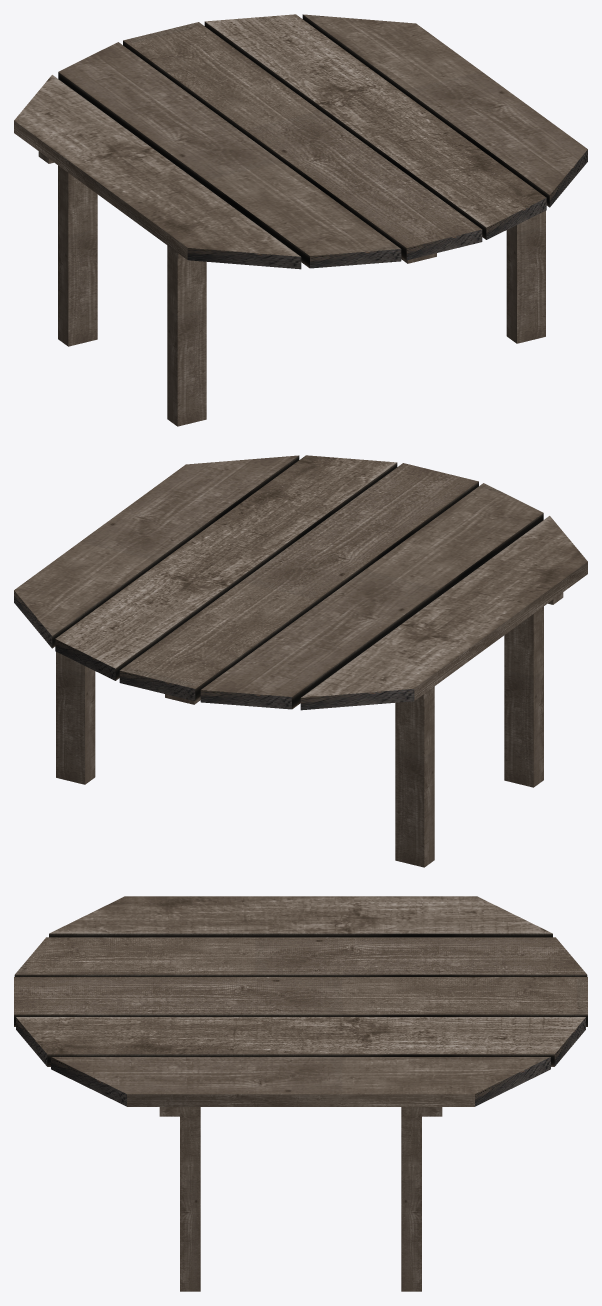
Rendered from roundTable.dae.
The picture shows the model from 3 angles, top to bottom: view 1: azimuth 30°, elevation 25°; view 2: azimuth 150°, elevation 25°; view 3: azimuth 270°, elevation 25°; orthographic projection.
Parts seen in each view (by area): view 1: roundTable; view 2: roundTable; view 3: roundTable.
Boxes of the visible parts, left/top/right/bottom form: roundTable: left=14, top=14, right=587, bottom=426; roundTable: left=14, top=455, right=587, bottom=867; roundTable: left=14, top=896, right=587, bottom=1291.
Size of the model in its own units: 1.78 by 0.8589 by 2.18.
1 material, 1 textured.
